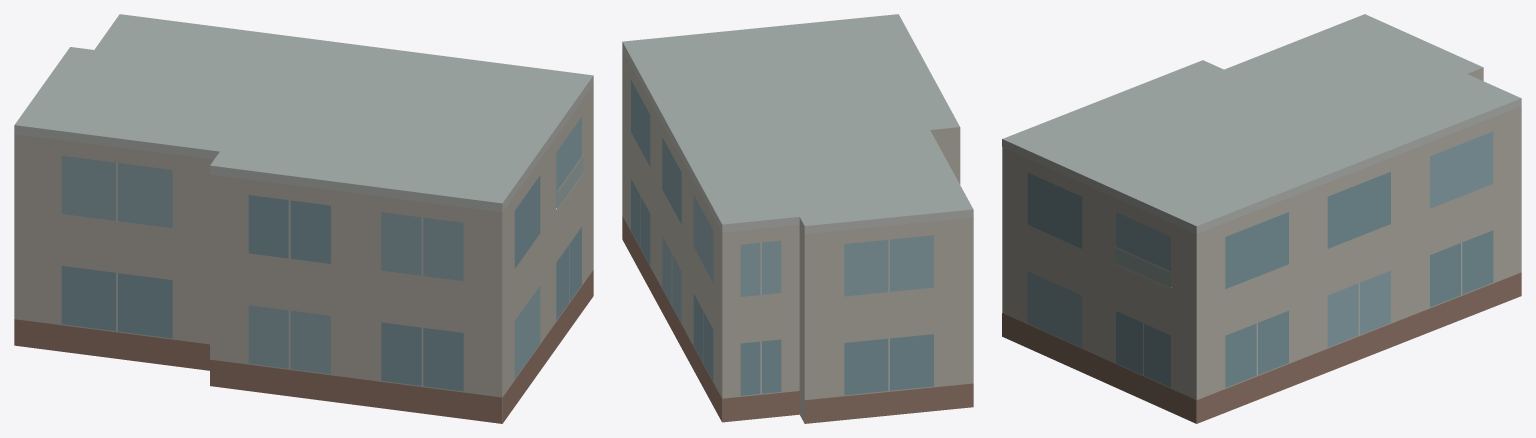
The model's file is survey-upis-32816331.glb.
3 renders of one model, left to right at view 1: azimuth 30°, elevation 25°; view 2: azimuth 150°, elevation 25°; view 3: azimuth 270°, elevation 25°, orthographic. The views are drawn at different scales.
Parts seen in each view (by area): view 1: survey-upis-32816331.tmp; view 2: survey-upis-32816331.tmp; view 3: survey-upis-32816331.tmp.
Boxes of the visible parts, x1,y1,x2,y2 form: survey-upis-32816331.tmp: (14, 14, 593, 423); survey-upis-32816331.tmp: (622, 14, 973, 423); survey-upis-32816331.tmp: (1002, 14, 1521, 423).
Size of the model in its own units: 14.06 by 6.1 by 14.54.
